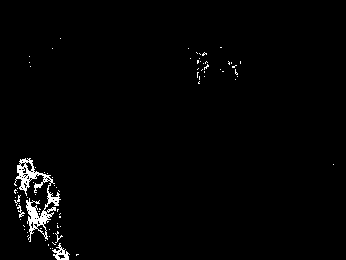person: (13, 157, 68, 260)
